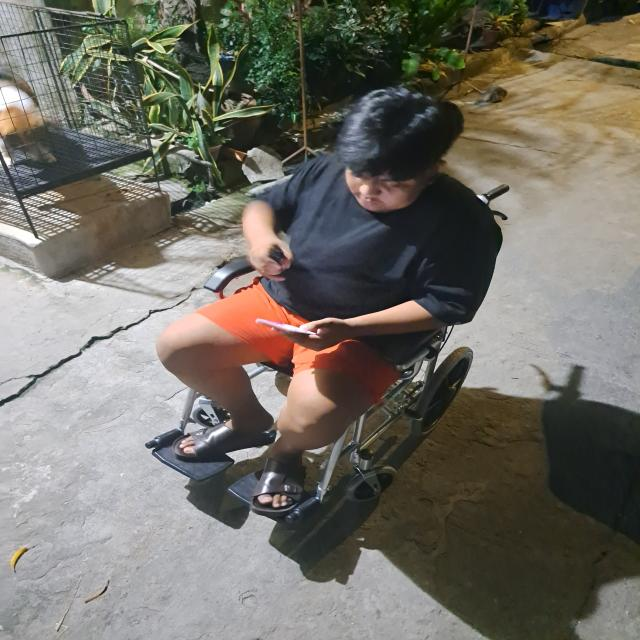wheelchairs: (148, 244, 489, 526)
